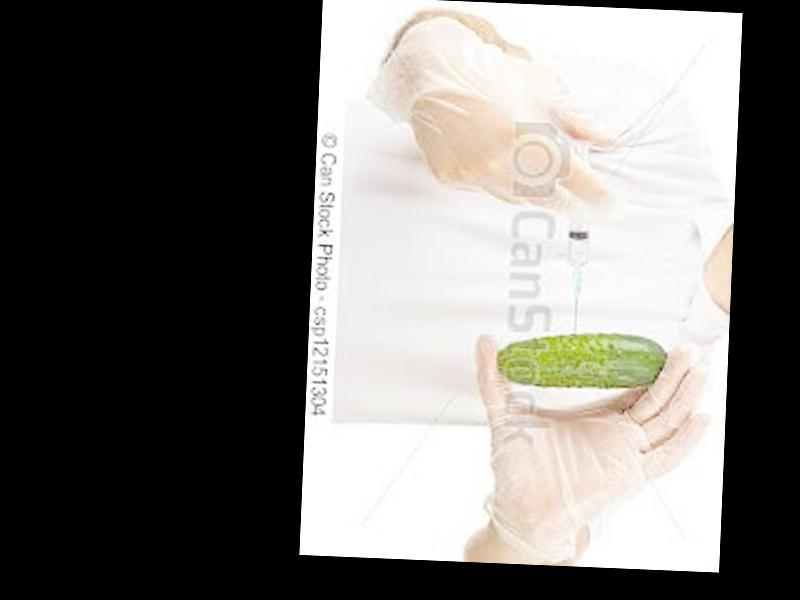Cucumber: (492, 331, 667, 394)
